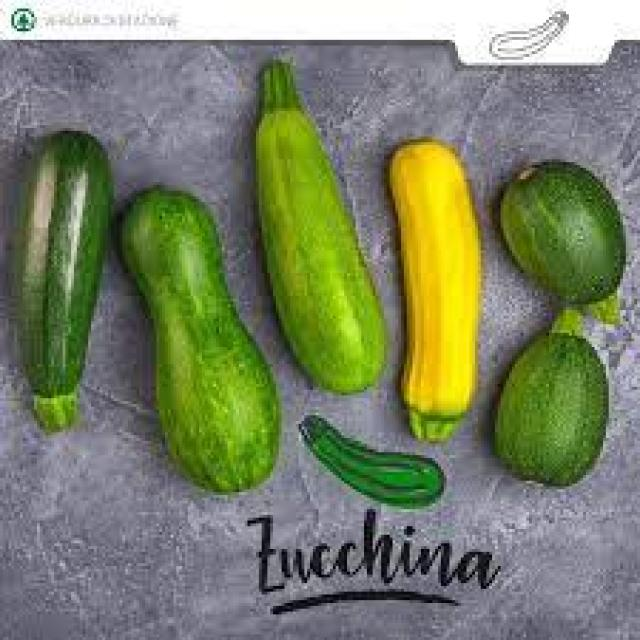Zucchini: (261, 87, 388, 400)
